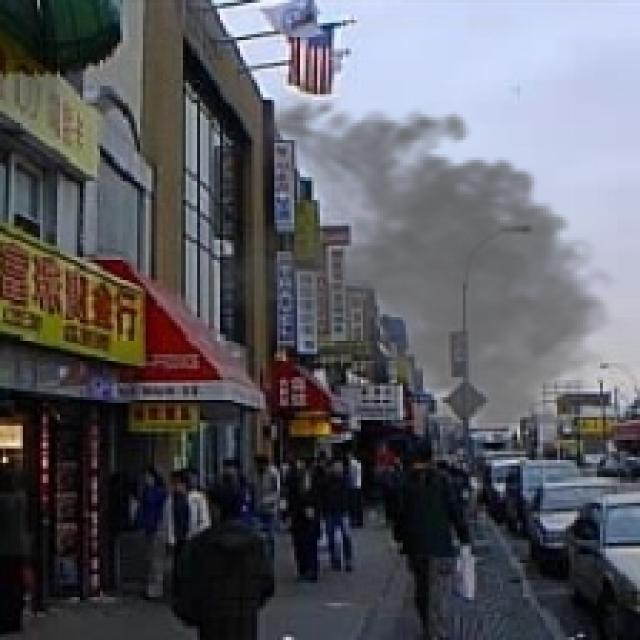smoke: (220, 89, 629, 440)
